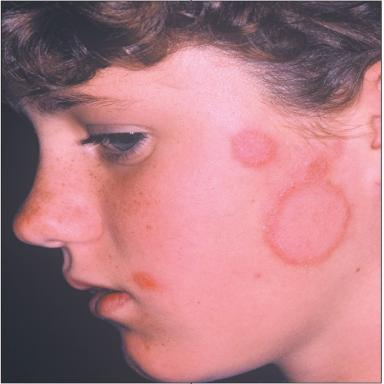Tinea-Corporis: (264, 161, 350, 264), (232, 131, 275, 165)
